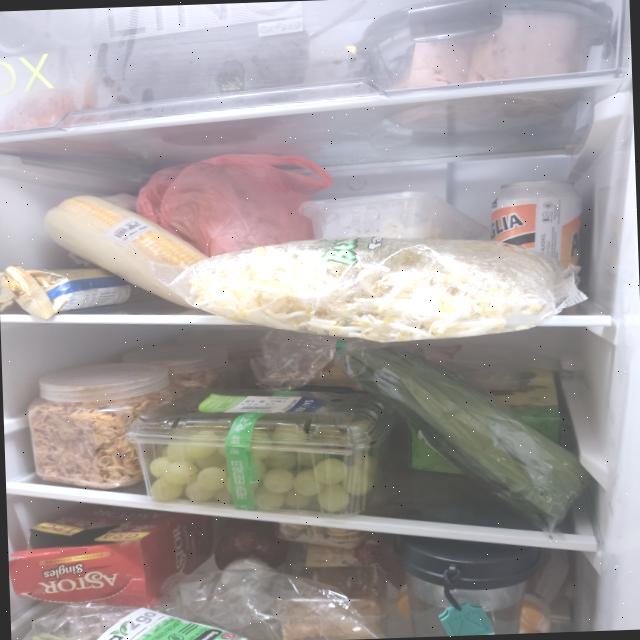bean_sprouts: (182, 228, 562, 350)
corn: (41, 190, 212, 314)
grape: (147, 412, 380, 520)
leafy_greens: (346, 336, 594, 534)
